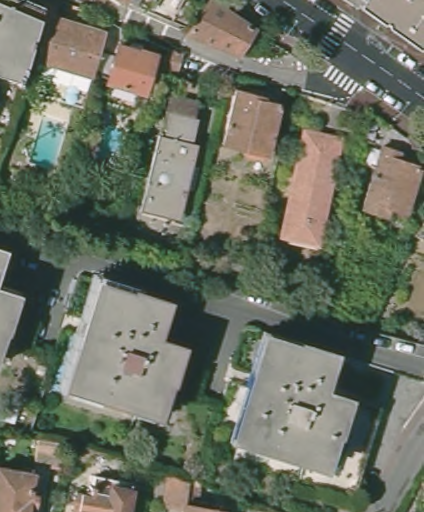pool: (28, 117, 71, 168), (100, 123, 132, 164)
